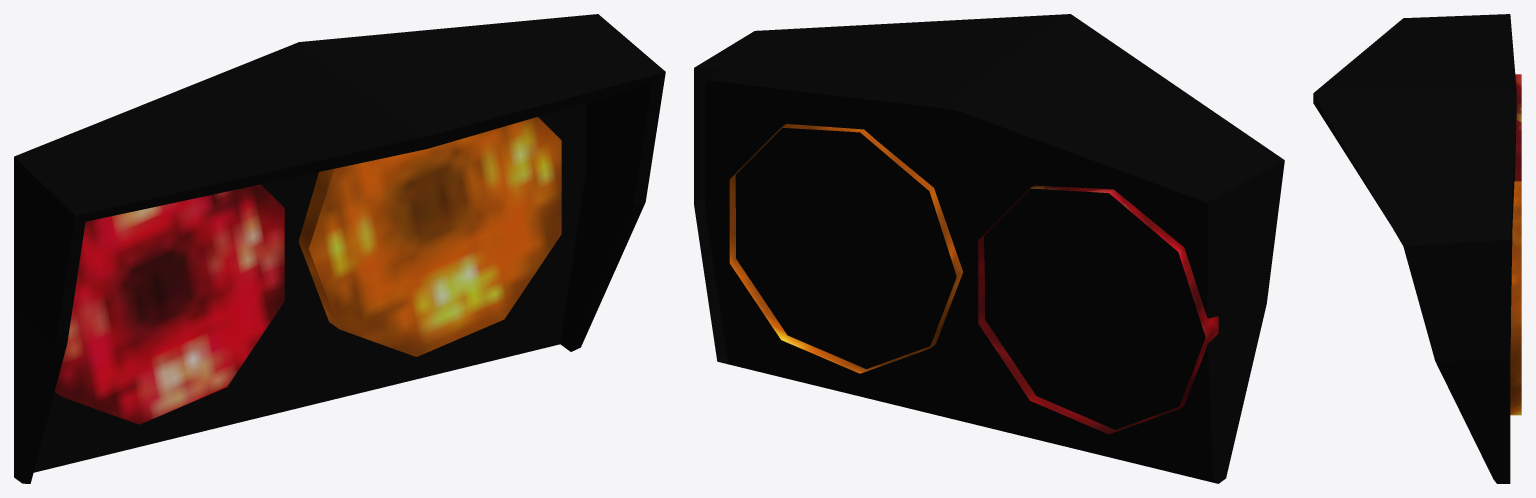
Rendered from quadBike_05_lightOnly.fbx.
3 views of the same model, side by side, from view 1: azimuth 30°, elevation 25°; view 2: azimuth 150°, elevation 25°; view 3: azimuth 270°, elevation 25° (orthographic). The views are drawn at different scales.
Visible parts, largest first — view 1: Body1; view 2: Body1; view 3: Body1.
Part boxes in pixels (bbox=[...]): Body1: bbox=[14, 14, 665, 483]; Body1: bbox=[694, 14, 1284, 483]; Body1: bbox=[1313, 14, 1521, 483].
Bounding box in the file's own units: 28.6 × 16.75 × 11.03.
Materials: 1 (1 with a texture image).
